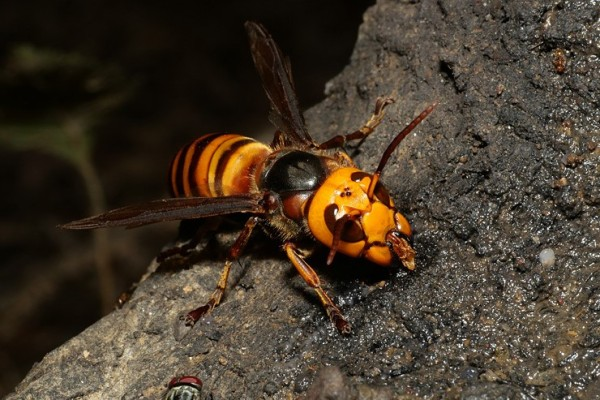asian_giant_hornet: (156, 131, 418, 292)
